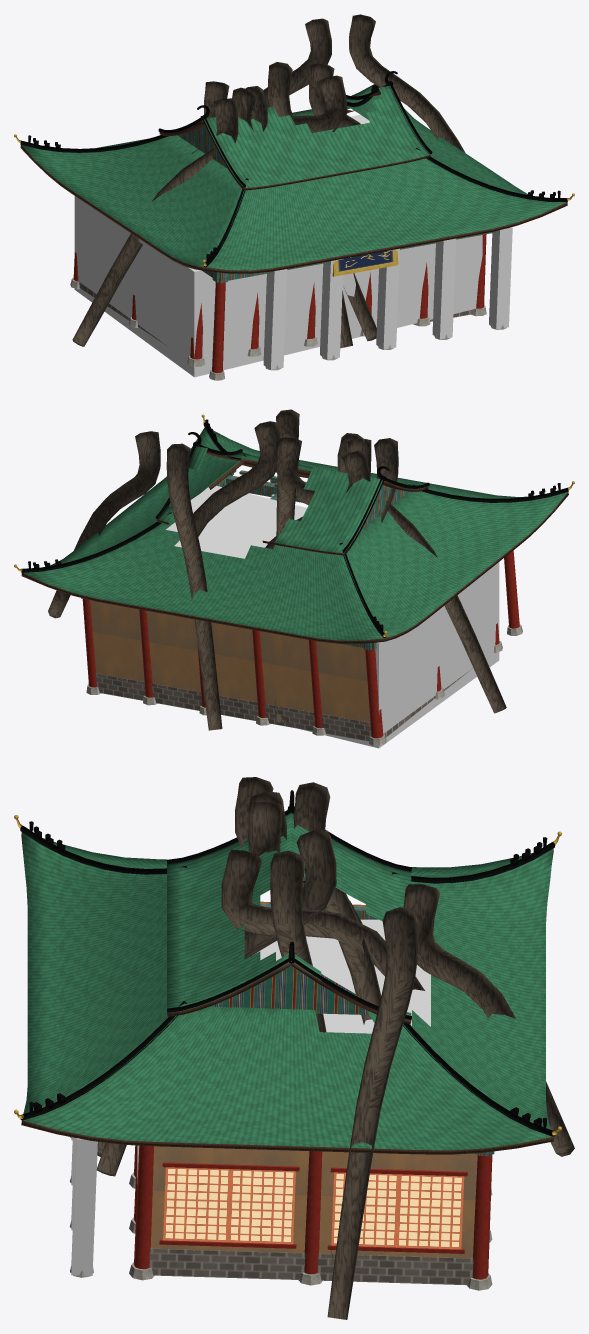
The model's file is buried_temple.glb.
3 renders of one model, top to bottom at view 1: azimuth 30°, elevation 25°; view 2: azimuth 150°, elevation 25°; view 3: azimuth 270°, elevation 25°, orthographic. The views are drawn at different scales.
Visible parts, largest first — view 1: BuriedLowerRoof, BuriedBody-convcolonly.001, Roots, BuriedGable, BuriedColumns, BuriedVCol-convcolonly.005, BuriedVCol-convcolonly.001, BuriedVCol-convcolonly.004, BuriedVCol-convcolonly.002, BuriedLowerRoofRidges, BuriedVCol-convcolonly.003, BuriedGableRidge (+4 smaller); view 2: BuriedLowerRoof, Roots, BuriedWalls, BuriedBody-convcolonly.001, BuriedGable, BuriedColumns, BuriedDado, BuriedLowerRoofRidges, BuriedGableRidge, BuriedColumnBases, BuriedGableFace, BuriedBeams (+1 smaller); view 3: BuriedLowerRoof, Roots, BuriedLattice, BuriedGable, BuriedWalls, BuriedDado, BuriedColumns, BuriedLowerRoofRidges, BuriedBody-convcolonly.001, BuriedGableFace, BuriedVCol-convcolonly.005, BuriedFrames (+3 smaller).
Part boxes in pixels (x1=…): BuriedLowerRoof: x1=20, y1=84, x2=567, y2=273; BuriedBody-convcolonly.001: x1=74, y1=114, x2=482, y2=377; Roots: x1=72, y1=14, x2=465, y2=348; BuriedGable: x1=159, y1=85, x2=430, y2=190; BuriedColumns: x1=73, y1=234, x2=486, y2=372; BuriedVCol-convcolonly.005: x1=489, y1=227, x2=512, y2=329; BuriedVCol-convcolonly.001: x1=263, y1=269, x2=287, y2=369; BuriedVCol-convcolonly.004: x1=432, y1=238, x2=456, y2=339; BuriedVCol-convcolonly.002: x1=320, y1=259, x2=343, y2=359; BuriedLowerRoofRidges: x1=20, y1=87, x2=567, y2=267; BuriedVCol-convcolonly.003: x1=376, y1=248, x2=399, y2=349; BuriedGableRidge: x1=158, y1=71, x2=432, y2=187; BuriedLowerRoof: x1=21, y1=427, x2=568, y2=643; Roots: x1=48, y1=409, x2=506, y2=730; BuriedWalls: x1=90, y1=600, x2=370, y2=722; BuriedBody-convcolonly.001: x1=166, y1=485, x2=499, y2=748; BuriedGable: x1=157, y1=446, x2=428, y2=555; BuriedColumns: x1=82, y1=550, x2=519, y2=738; BuriedDado: x1=95, y1=668, x2=472, y2=741; BuriedLowerRoofRidges: x1=21, y1=422, x2=568, y2=637; BuriedGableRidge: x1=155, y1=432, x2=429, y2=552; BuriedColumnBases: x1=86, y1=624, x2=522, y2=745; BuriedGableFace: x1=359, y1=485, x2=409, y2=528; BuriedBeams: x1=81, y1=475, x2=376, y2=650; BuriedLowerRoof: x1=21, y1=832, x2=553, y2=1154; Roots: x1=96, y1=777, x2=574, y2=1319; BuriedLattice: x1=163, y1=1167, x2=464, y2=1249; BuriedGable: x1=167, y1=812, x2=411, y2=1024; BuriedWalls: x1=150, y1=1146, x2=477, y2=1258; BuriedDado: x1=149, y1=1248, x2=473, y2=1285; BuriedColumns: x1=134, y1=1145, x2=492, y2=1279; BuriedLowerRoofRidges: x1=20, y1=826, x2=555, y2=1136; BuriedBody-convcolonly.001: x1=137, y1=919, x2=430, y2=1184; BuriedGableFace: x1=210, y1=849, x2=370, y2=1014; BuriedVCol-convcolonly.005: x1=71, y1=1138, x2=97, y2=1275; BuriedFrames: x1=159, y1=1162, x2=467, y2=1253.
Size of what is drawn, in the model's own units: 22 by 11.61 by 16.66.
12 materials, 12 textured.
